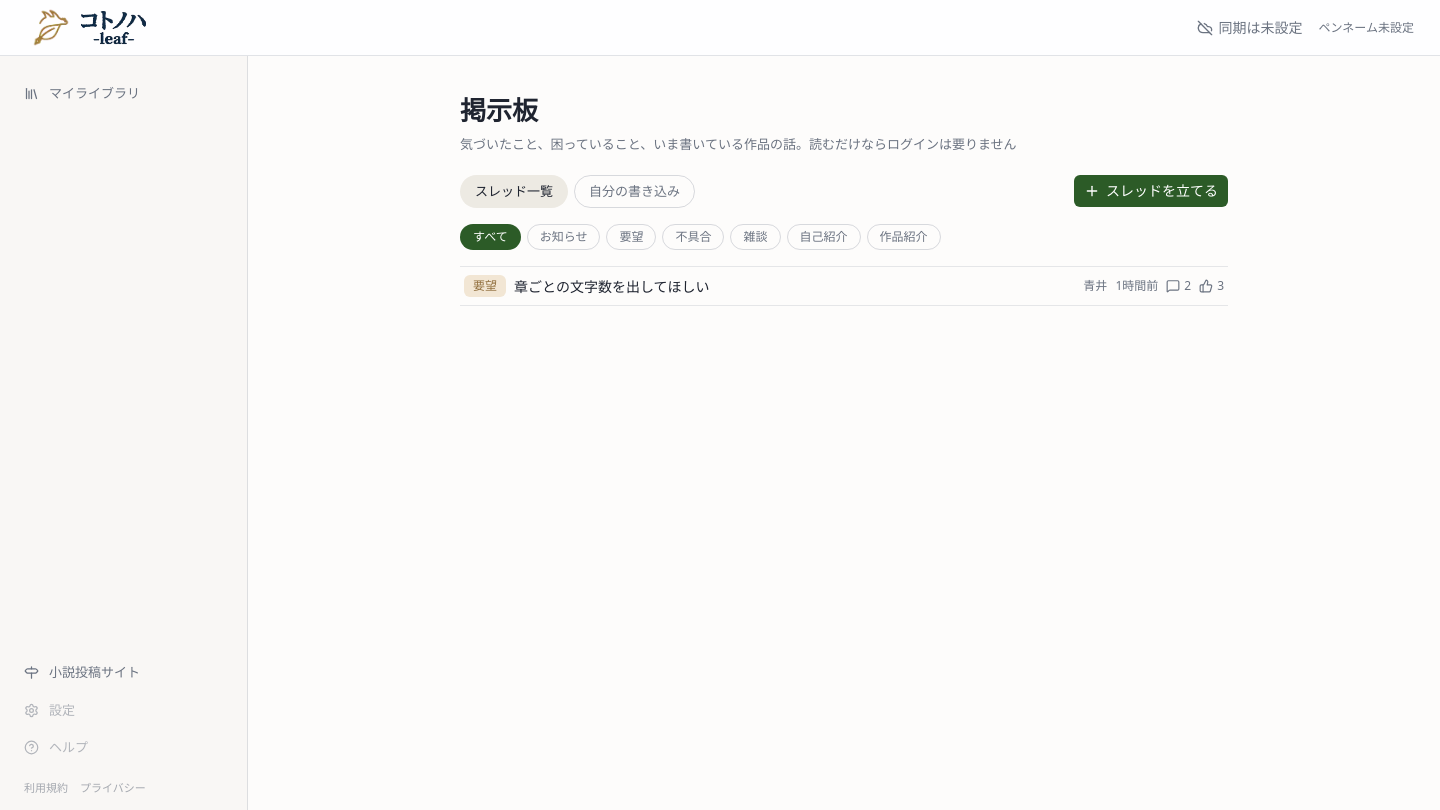
BoardPage（掲示板の一覧） › 表示名が未設定のままスレを立てようとすると、先に表示名のダイアログを出す
Step 1. Click the button "スレッドを立てる" → (1151,191), box [1074,175,1228,207]
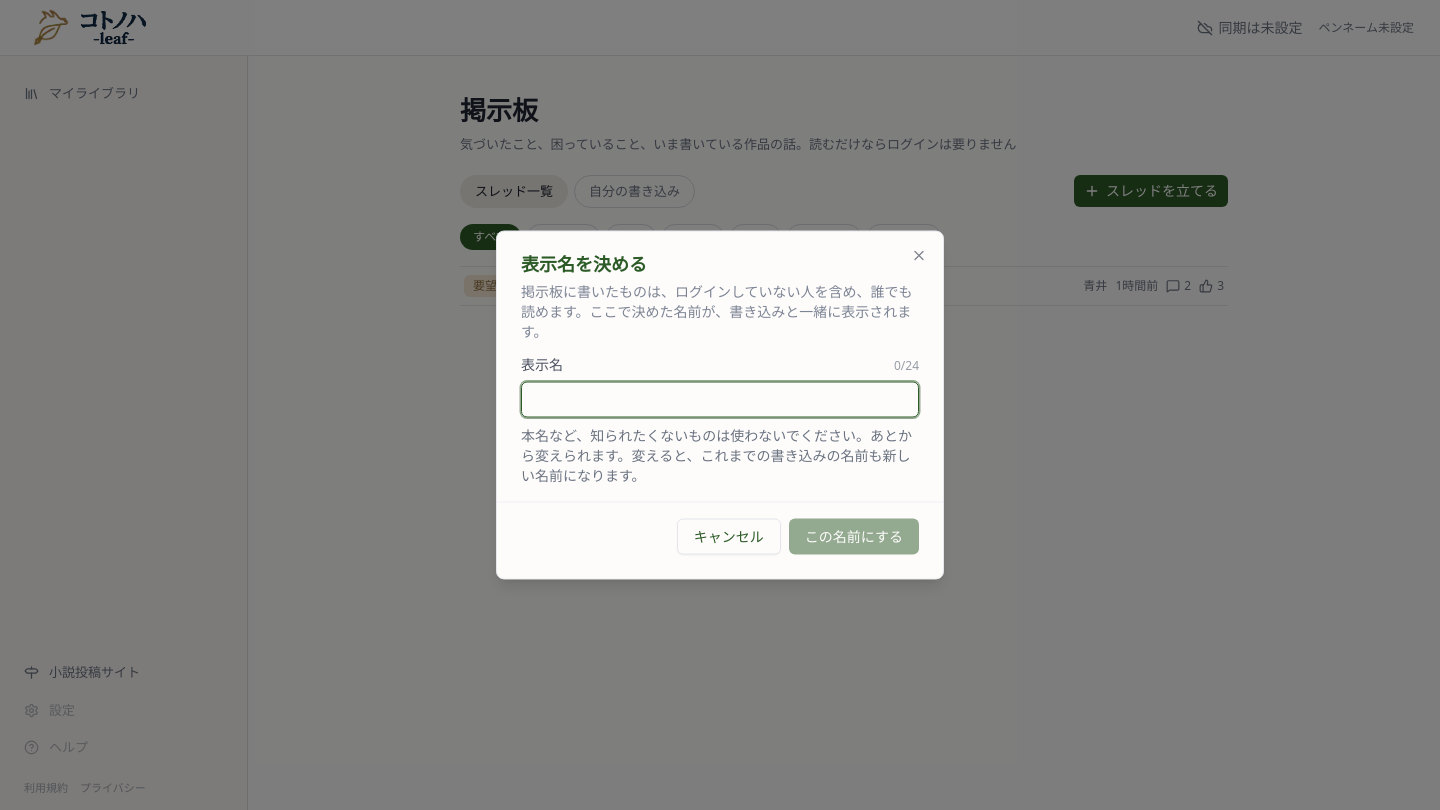
Expected: the heading "表示名を決める" is shown, [521,254,647,274]
